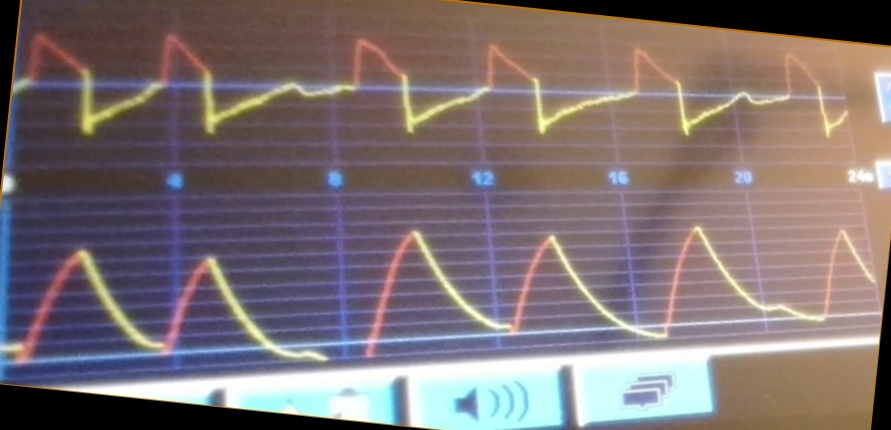Ineffective_effort Flow: (18, 28, 852, 147)
Ineffective_effort Volume: (10, 220, 877, 365)
